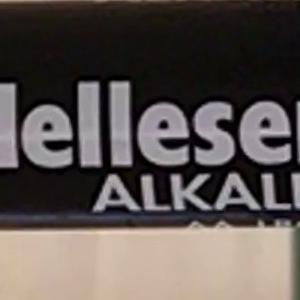keyword: (83, 164, 204, 222)
